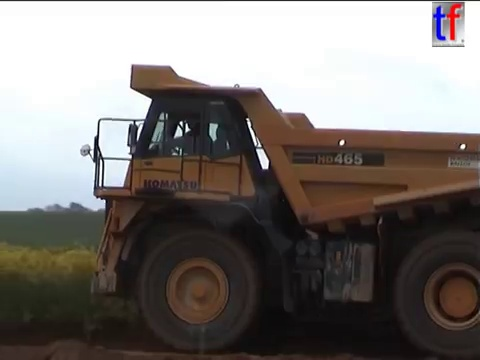truck: (76, 59, 479, 358)
